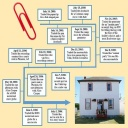Metal: (9, 1, 41, 42)
